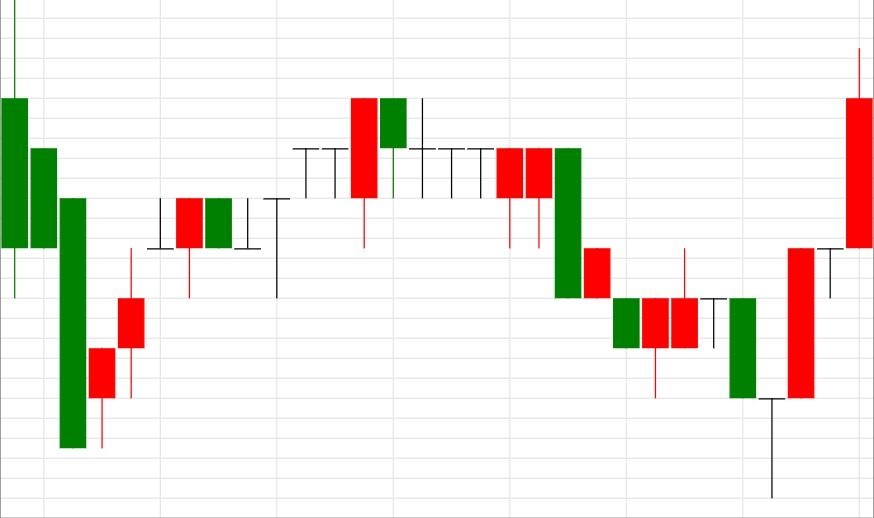morning_star_rise: (351, 98, 815, 499)
